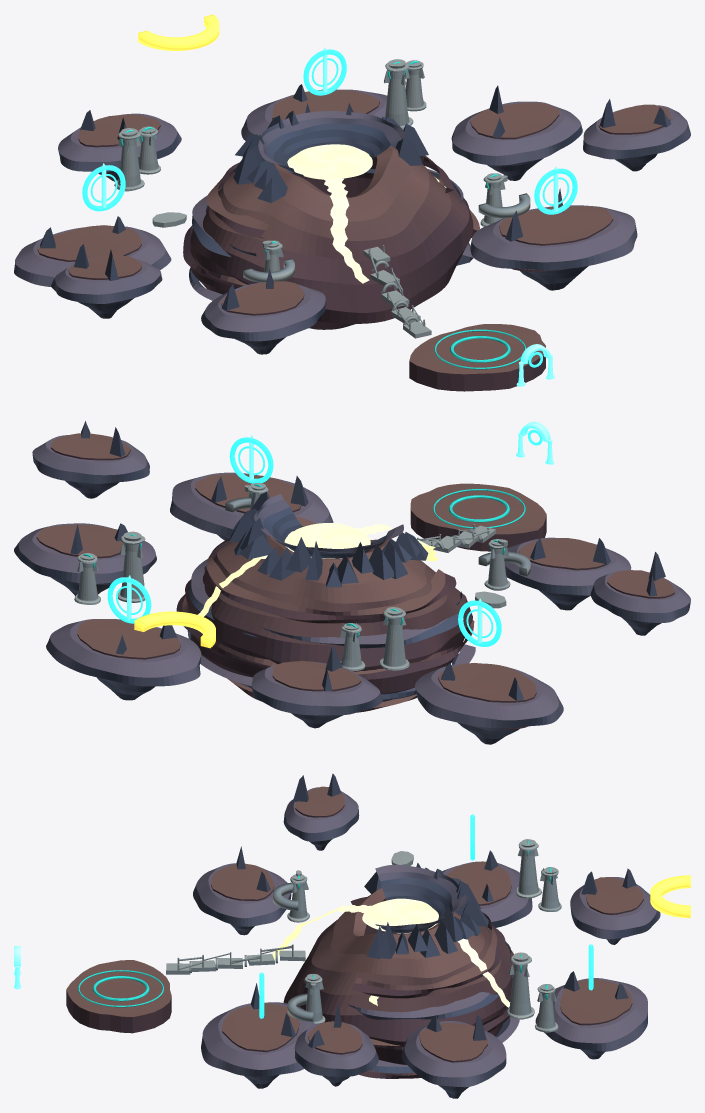
Rendered from volcanic-archipelago-high.glb.
3 views of the same model, one above another, from view 1: azimuth 30°, elevation 25°; view 2: azimuth 150°, elevation 25°; view 3: azimuth 270°, elevation 25° (orthographic). The views are drawn at different scales.
Visible parts, largest first — view 1: ObsidianIslands, VolcanoCaldera, LandingPad, CoolingRuins, LavaSurface, BrokenBridge, EscapeGate, CoolingSeal_1, CoolingSeal_2, CoolingSeal_3, ExpeditionBeacon; view 2: ObsidianIslands, VolcanoCaldera, CoolingRuins, LandingPad, LavaSurface, BrokenBridge, EscapeGate, CoolingSeal_1, CoolingSeal_2, CoolingSeal_3, ExpeditionBeacon; view 3: ObsidianIslands, VolcanoCaldera, CoolingRuins, LandingPad, LavaSurface, BrokenBridge, EscapeGate.
Boxes of the visible parts, x1,y1,x2,y2 form: ObsidianIslands: (14,84,690,354); VolcanoCaldera: (183,103,479,329); LandingPad: (409,324,545,391); CoolingRuins: (114,59,530,282); LavaSurface: (287,144,446,283); BrokenBridge: (152,212,431,338); EscapeGate: (138,14,219,50); CoolingSeal_1: (82,163,125,211); CoolingSeal_2: (534,166,577,214); CoolingSeal_3: (303,47,346,95); ExpeditionBeacon: (516,344,554,386); ObsidianIslands: (14,421,690,744); VolcanoCaldera: (176,491,475,712); CoolingRuins: (74,483,530,671); LandingPad: (410,483,546,551); LavaSurface: (198,523,438,616); BrokenBridge: (392,524,506,608); EscapeGate: (134,611,215,648); CoolingSeal_1: (458,598,501,646); CoolingSeal_2: (229,435,273,483); CoolingSeal_3: (107,575,151,623); ExpeditionBeacon: (516,421,553,464); ObsidianIslands: (193,773,660,1098); VolcanoCaldera: (283,863,519,1078); CoolingRuins: (273,839,561,1032); LandingPad: (66,960,171,1033); LavaSurface: (272,898,509,1007); BrokenBridge: (166,851,413,974); EscapeGate: (650,875,690,917).
Size of the model in its own units: 185 by 49.81 by 183.
